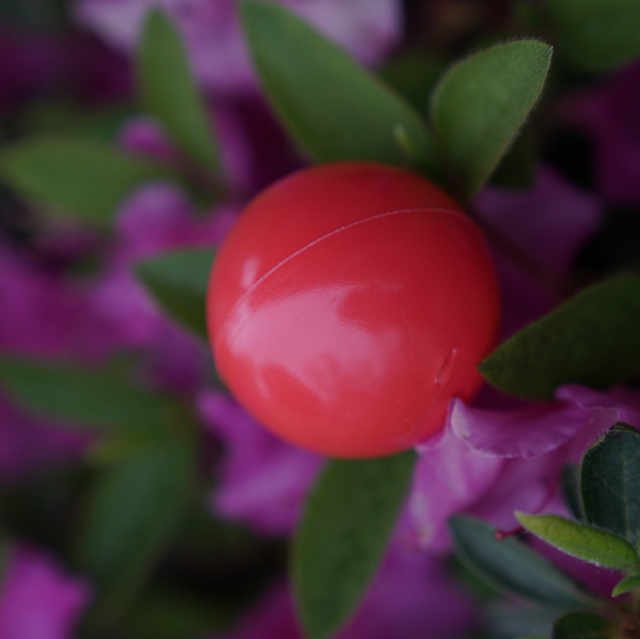Ball: (207, 160, 503, 451)
